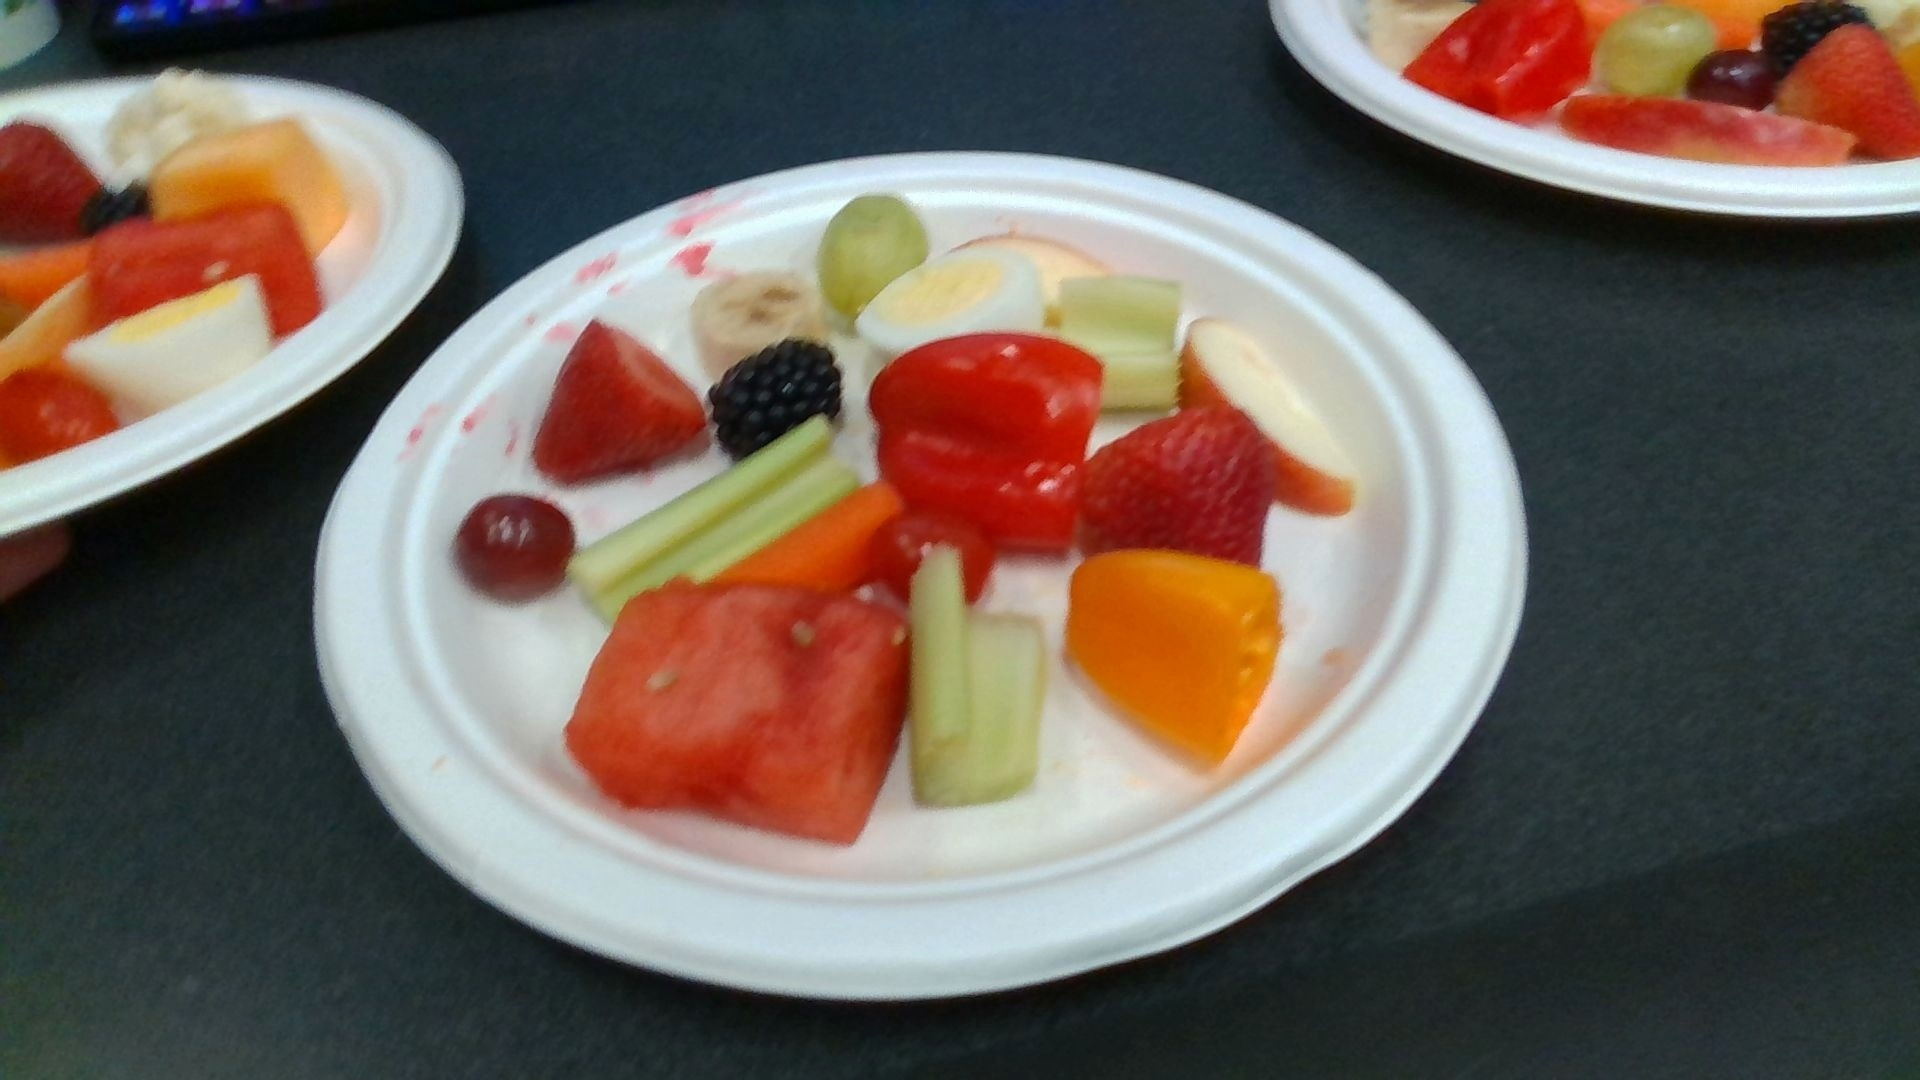apple: (1184, 316, 1354, 516), (1560, 90, 1854, 171)
banana: (695, 272, 837, 367)
bell_pepper: (872, 335, 1102, 550), (1069, 549, 1276, 761), (1402, 1, 1592, 116)
blackberry: (712, 340, 840, 446)
cantalope: (149, 123, 349, 256)
carrot: (720, 483, 902, 589)
celery: (568, 413, 860, 620), (913, 545, 1040, 798), (1059, 273, 1172, 407)
cherry_tomato: (1, 368, 123, 463), (880, 516, 992, 600)
egg: (65, 278, 269, 413), (855, 251, 1039, 351)
grape_green: (820, 198, 927, 315), (1598, 1, 1714, 98)
grape_purple: (459, 500, 572, 608)
melon: (564, 585, 914, 841), (92, 200, 322, 334)
strawberry: (1080, 407, 1273, 578), (541, 324, 702, 483), (1778, 22, 1920, 160), (1, 120, 109, 235)
